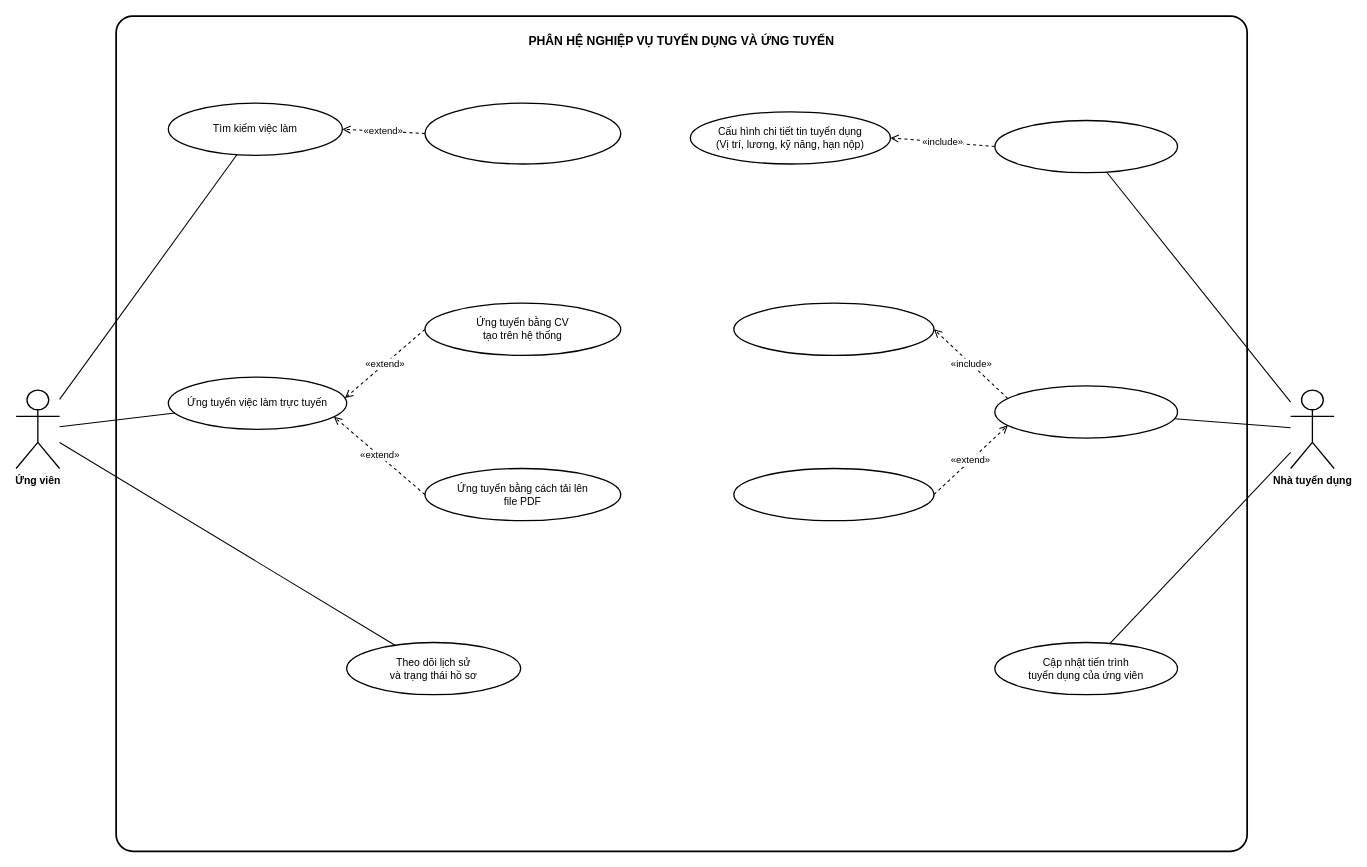
The diagram is 1367 pixels wide and 867 high, and some of its shapes have lost their labels. The shapes that lost their labels are listed below. From the top down, each one's box as (x1, y1, x2, y2) in pixels, then its label:
(424, 102, 621, 164): Lọc việc làm đa tiêu chí (Ngành nghề, mức lương, địa điểm...)
(994, 119, 1178, 173): Tạo và Quản lý tin tuyển dụng
(733, 302, 934, 356): Xem nội dung CV trực tuyến
(994, 385, 1178, 438): Quản lý danh sách hồ sơ ứng tuyển
(733, 467, 934, 521): Tải file PDF CV ứng viên
